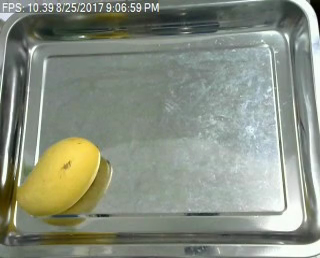Mango: (11, 135, 104, 219)
